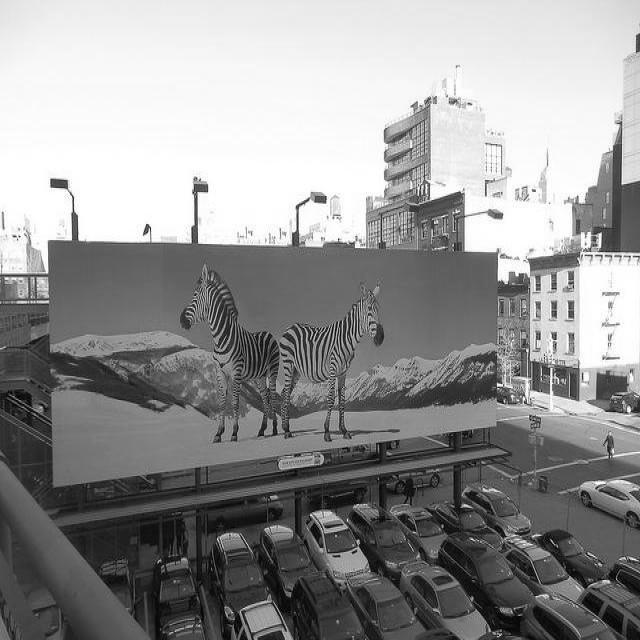vehicle: (27, 373, 639, 639), (436, 532, 535, 629), (400, 560, 494, 634), (206, 533, 272, 637), (491, 535, 585, 603), (346, 501, 422, 585), (344, 572, 428, 640), (290, 569, 369, 639), (304, 512, 370, 594), (258, 524, 318, 610), (529, 528, 611, 589), (461, 481, 533, 537), (577, 480, 640, 530), (609, 552, 640, 602)
